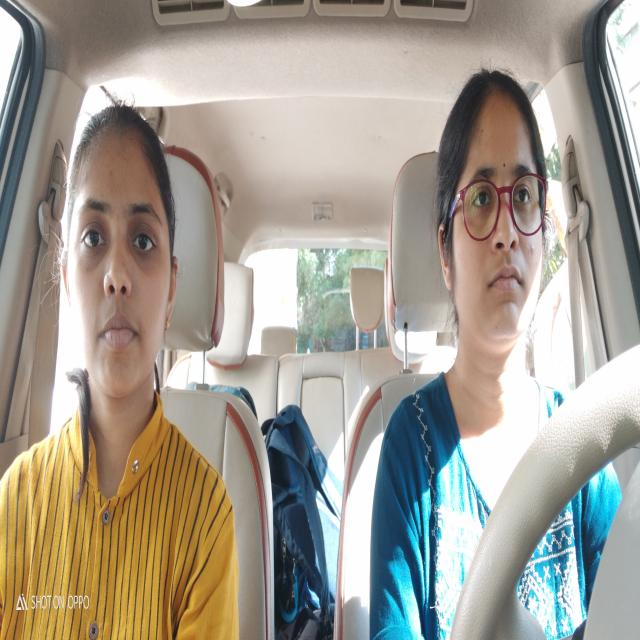person: (62, 101, 182, 408), (434, 68, 551, 364)
